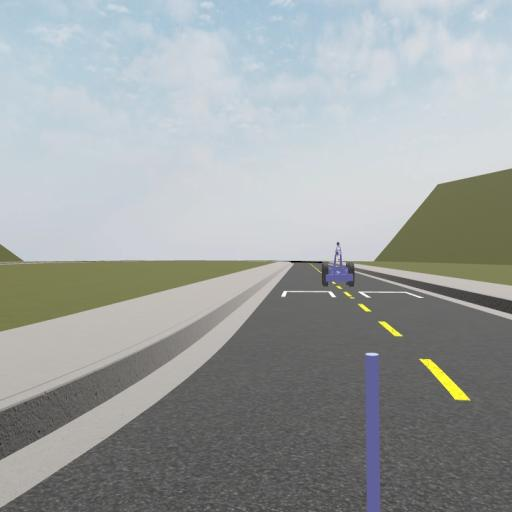ERP-42: (323, 243, 355, 286)
